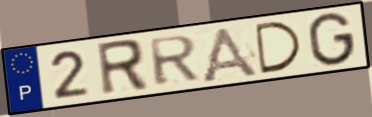2: (48, 48, 93, 101)
A: (198, 24, 263, 83)
D: (252, 19, 306, 76)
G: (307, 11, 357, 68)
R: (94, 37, 151, 98), (146, 33, 202, 88)
